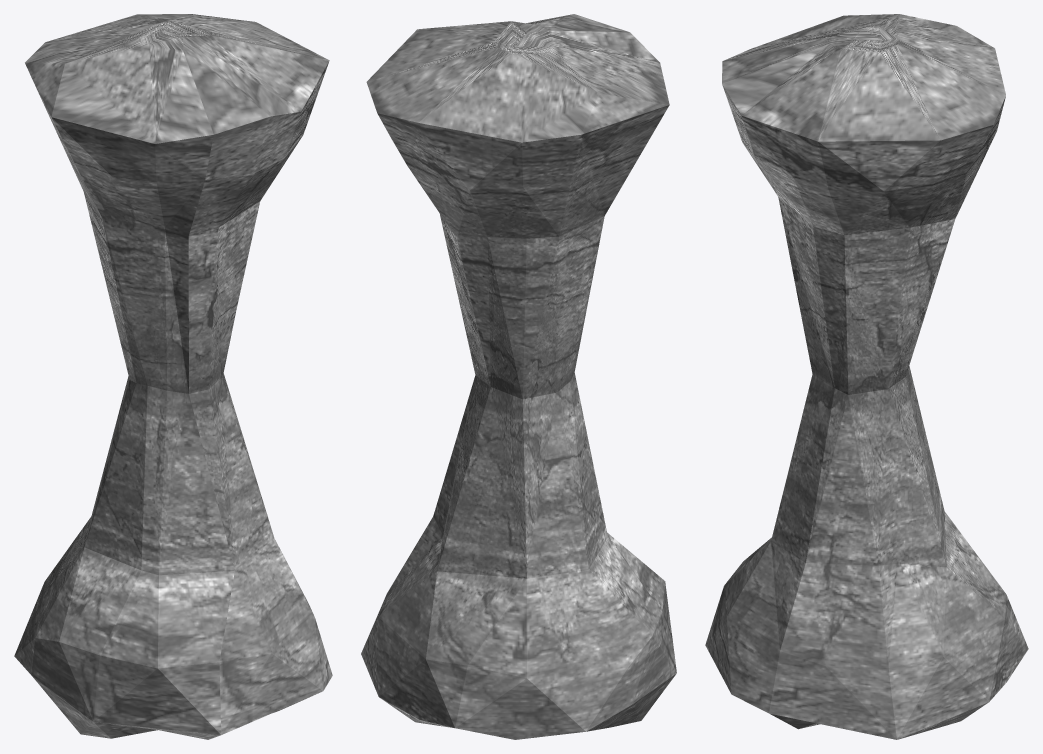
File: stone-column.glb
3 renders of one model, left to right at view 1: azimuth 30°, elevation 25°; view 2: azimuth 150°, elevation 25°; view 3: azimuth 270°, elevation 25°, orthographic.
Visible parts, largest first — view 1: Cylinder1; view 2: Cylinder1; view 3: Cylinder1.
Part boxes in pixels (x1,y1,x2,y2): Cylinder1: (14,14,332,739); Cylinder1: (361,14,676,739); Cylinder1: (705,14,1028,739).
Size of the model in its own units: 2.54 by 5.92 by 2.57.
1 material, 1 textured.
